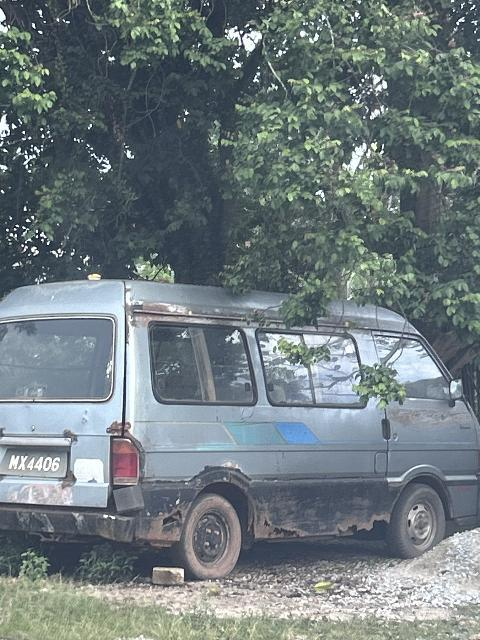License_Plate: (6, 449, 70, 481)
MX4406: (6, 449, 70, 481)
van: (1, 276, 480, 571)
